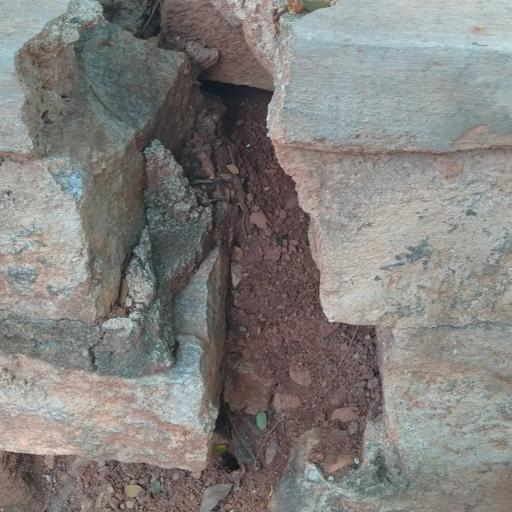major_crack: (33, 5, 400, 512)
